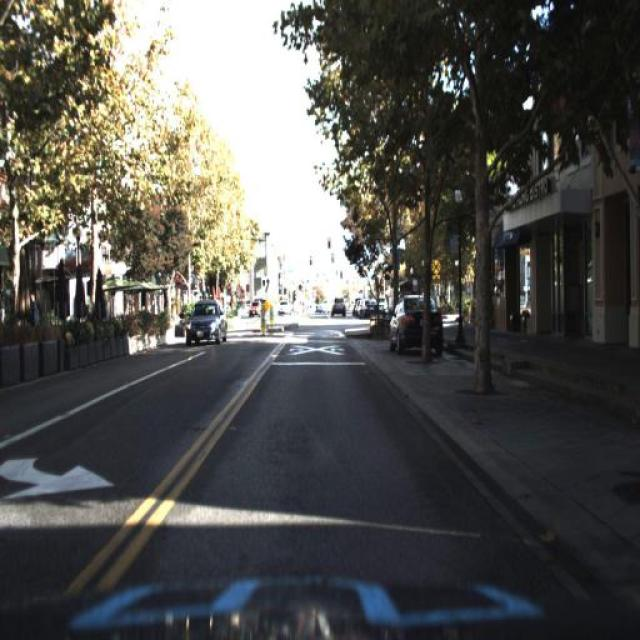car: (384, 289, 444, 359), (180, 294, 230, 354), (332, 295, 352, 327)
